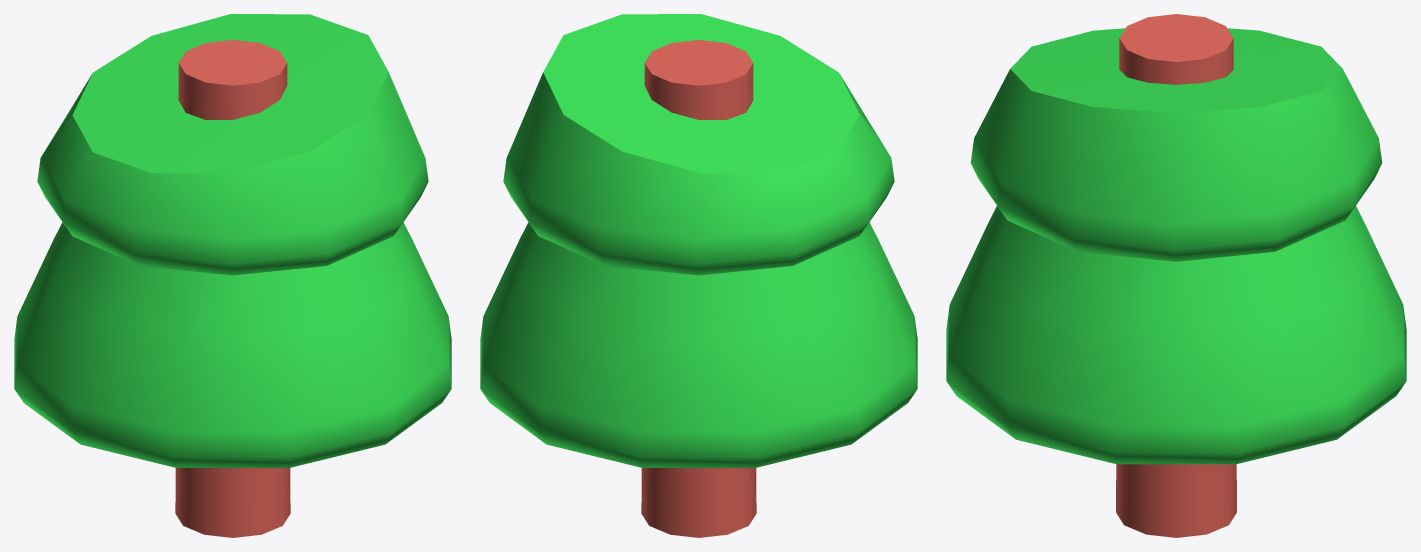
File: Tree_03_lvl.fbx
The picture shows the model from 3 angles, left to right: view 1: azimuth 30°, elevation 25°; view 2: azimuth 150°, elevation 25°; view 3: azimuth 270°, elevation 25°; orthographic projection. The views are drawn at different scales.
Visible parts, largest first — view 1: tree_4.008; view 2: tree_4.008; view 3: tree_4.008.
Part boxes in pixels (bbox=[...]): tree_4.008: bbox=[14, 14, 451, 537]; tree_4.008: bbox=[480, 14, 917, 537]; tree_4.008: bbox=[946, 14, 1406, 537].
Bounding box in the file's own units: 116 × 132 × 116.
